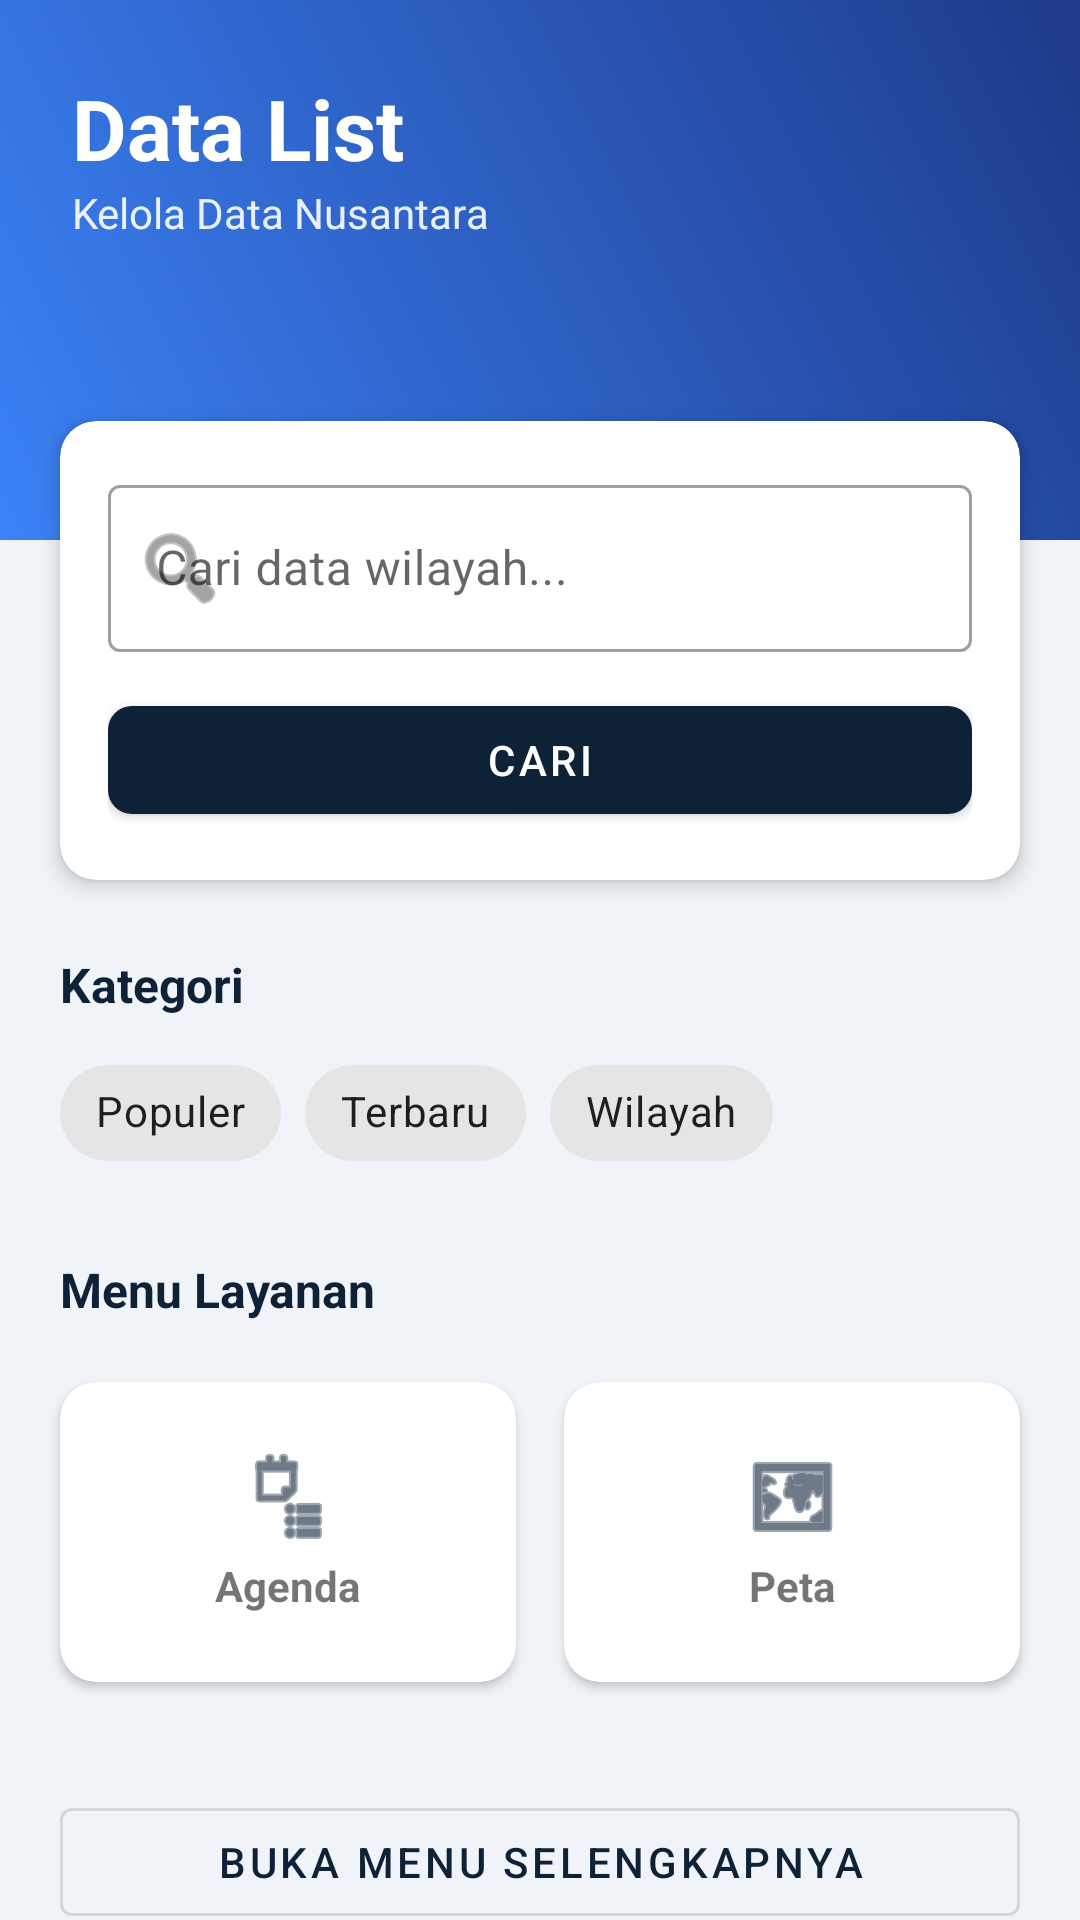

Screen size 1080 x 1920. Icon name, then its center in pixels as (x,y):
mapmode: (792,1497)
